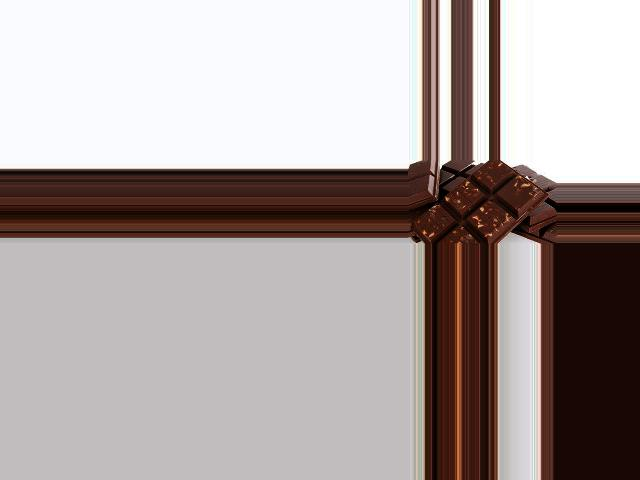chocolate: (412, 161, 538, 244)
